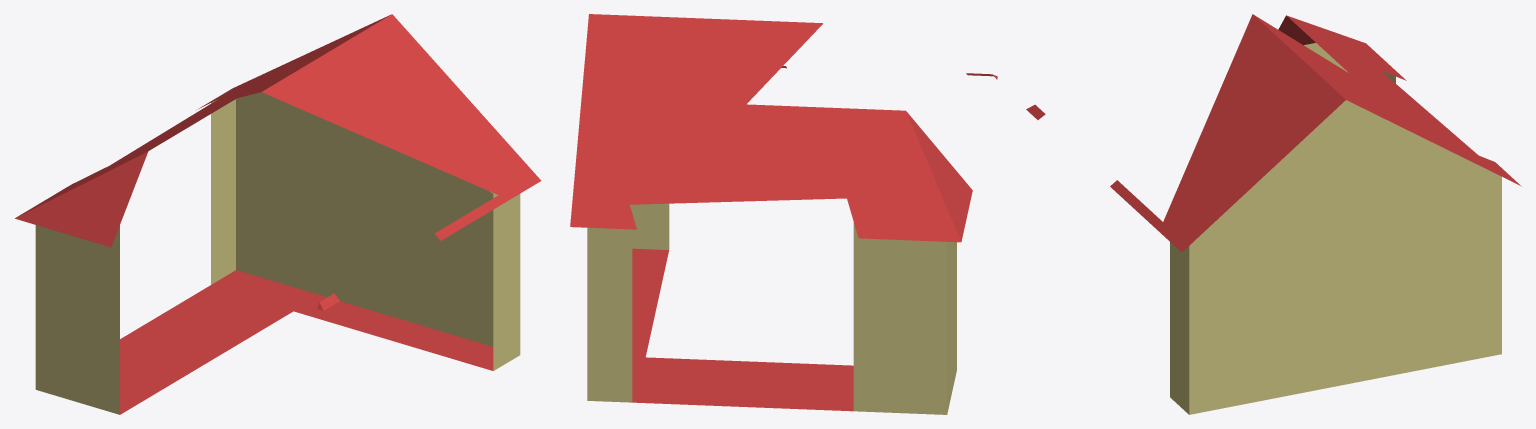
3 renders of one model, left to right at view 1: azimuth 30°, elevation 25°; view 2: azimuth 150°, elevation 25°; view 3: azimuth 270°, elevation 25°, orthographic. The views are drawn at different scales.
Size of the model in its own units: 24.82 by 24.85 by 16.12.
